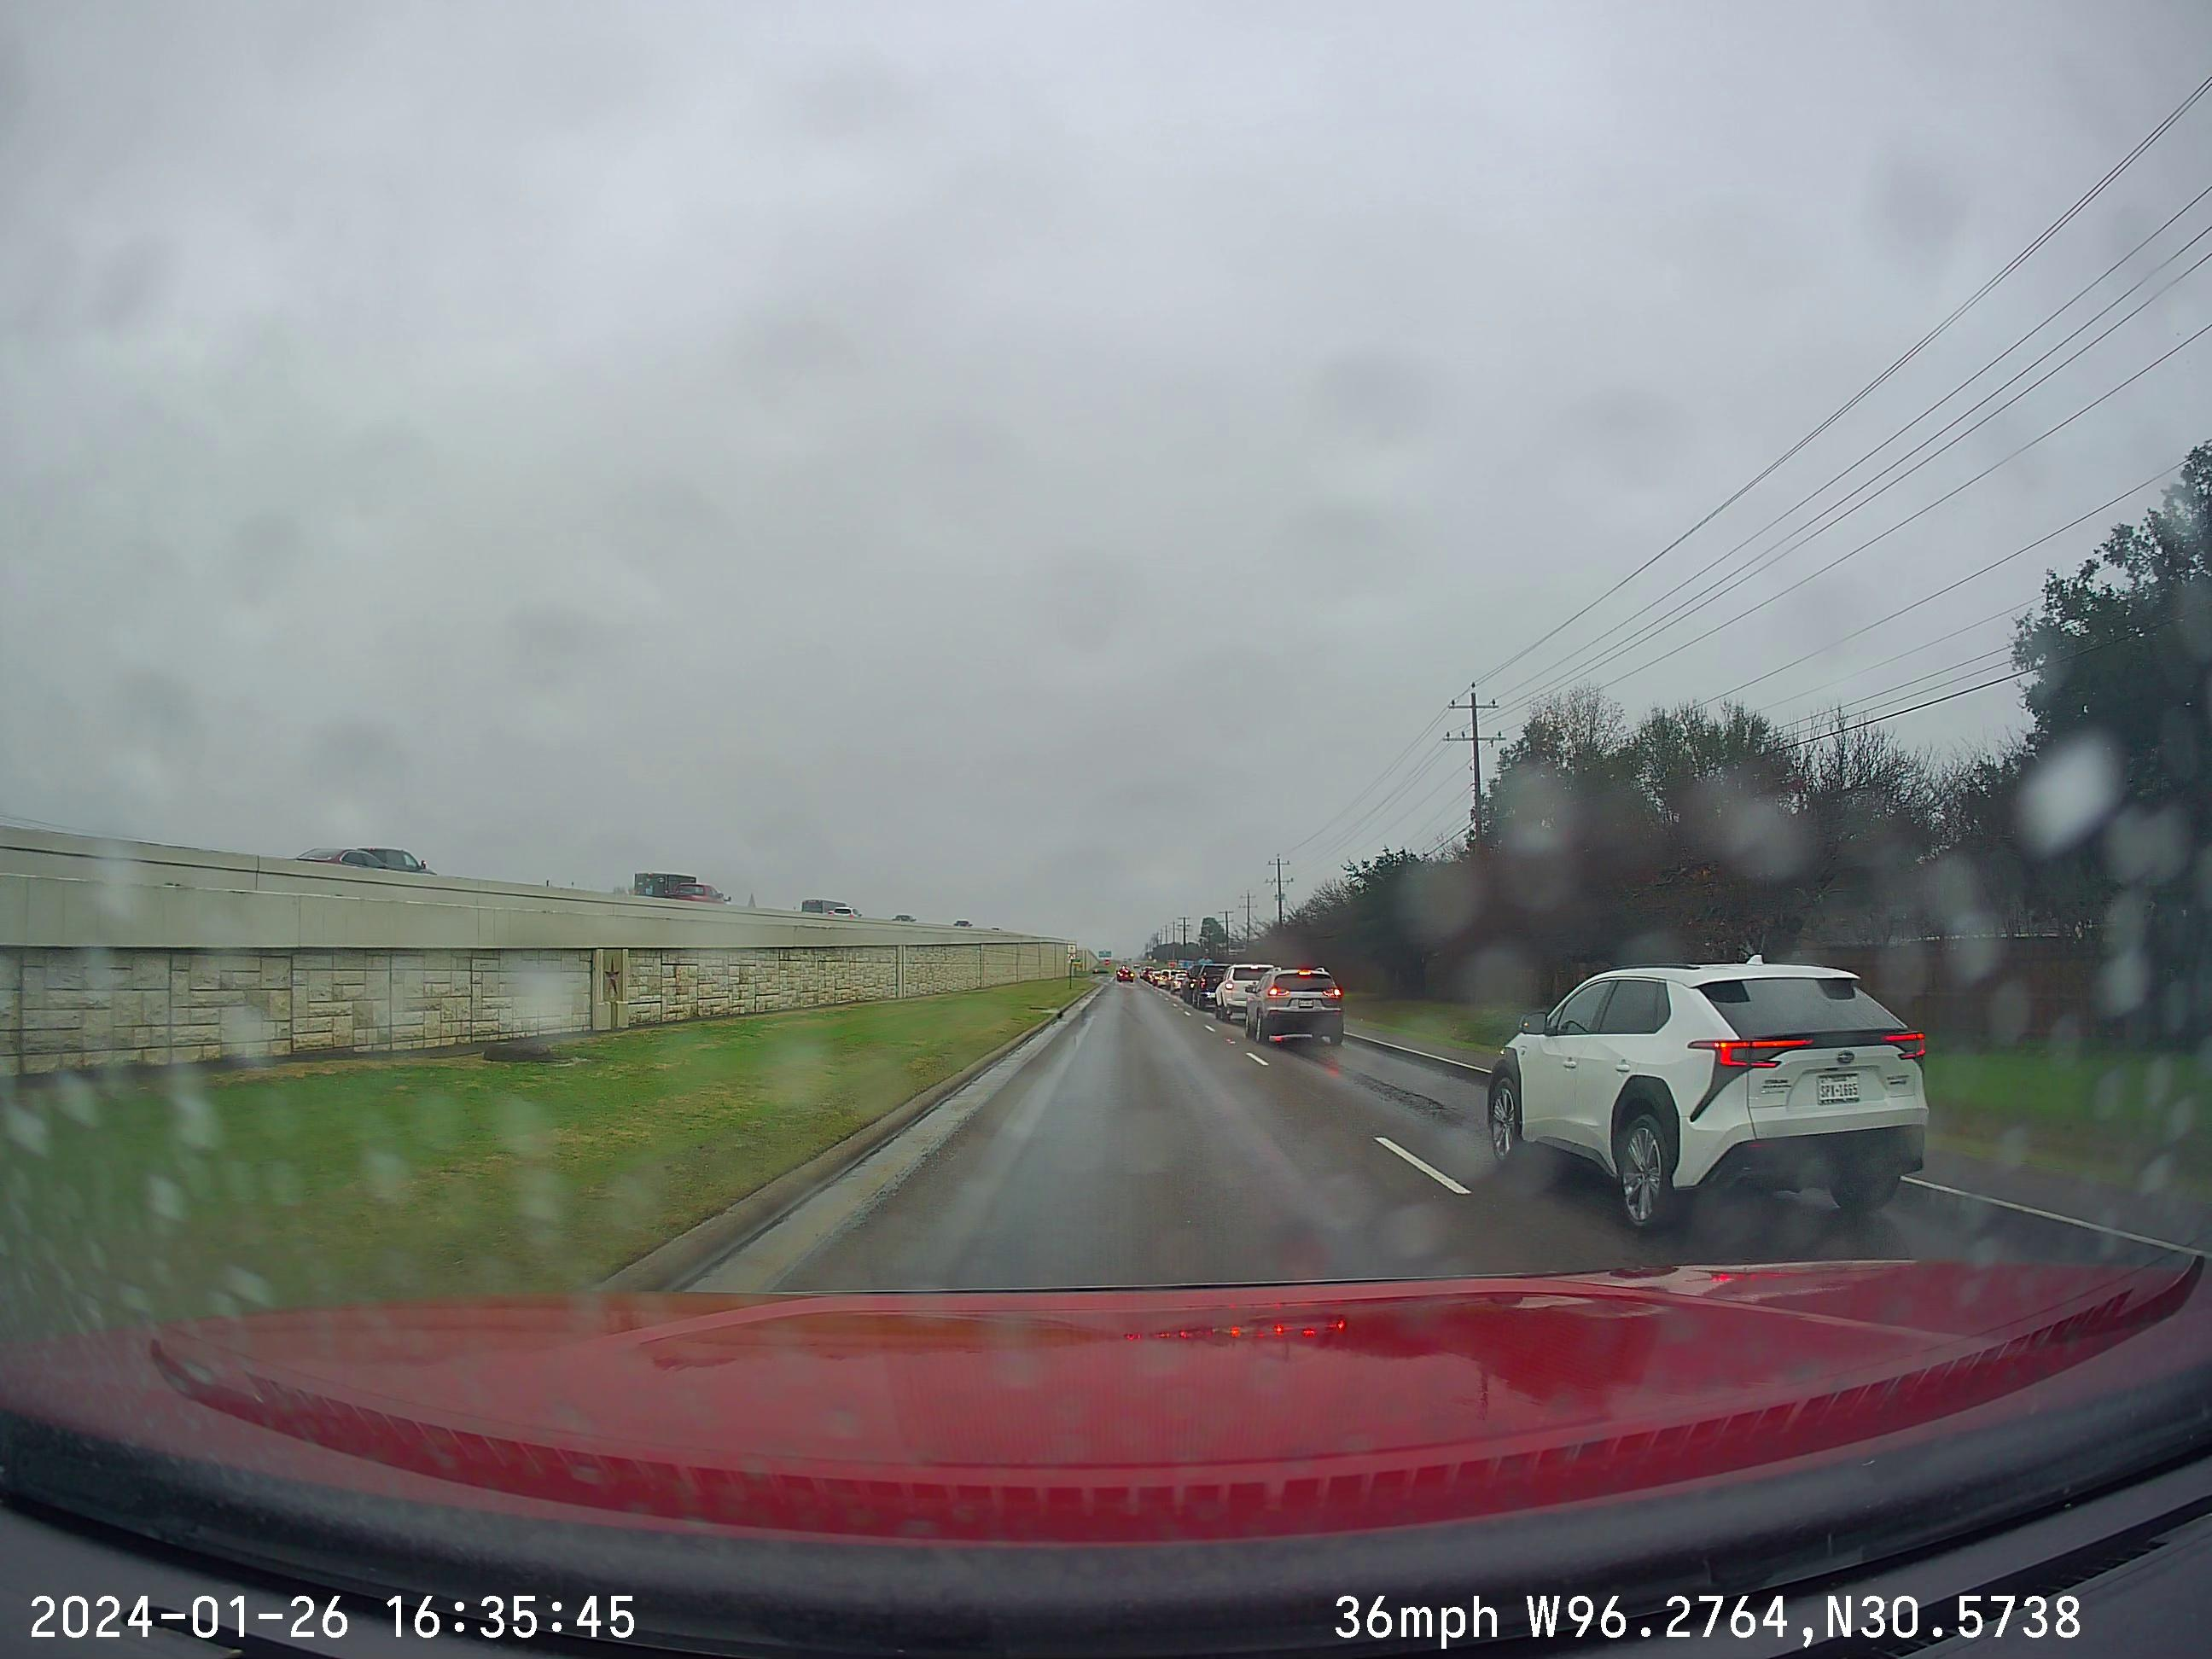car: (1487, 958, 1926, 1229)
truck: (1487, 958, 1926, 1229)
